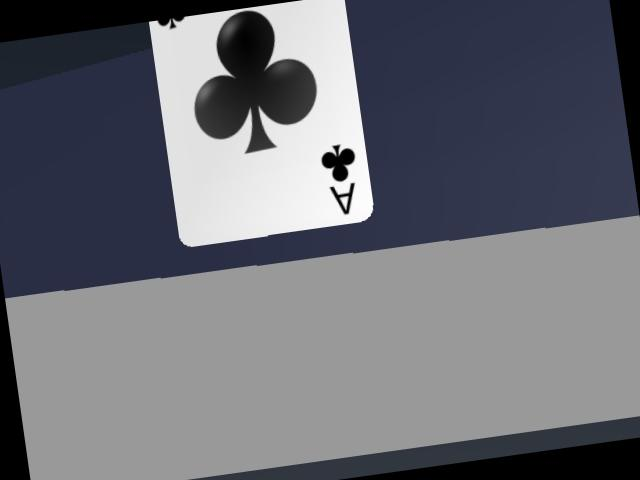club: (150, 0, 373, 246)
